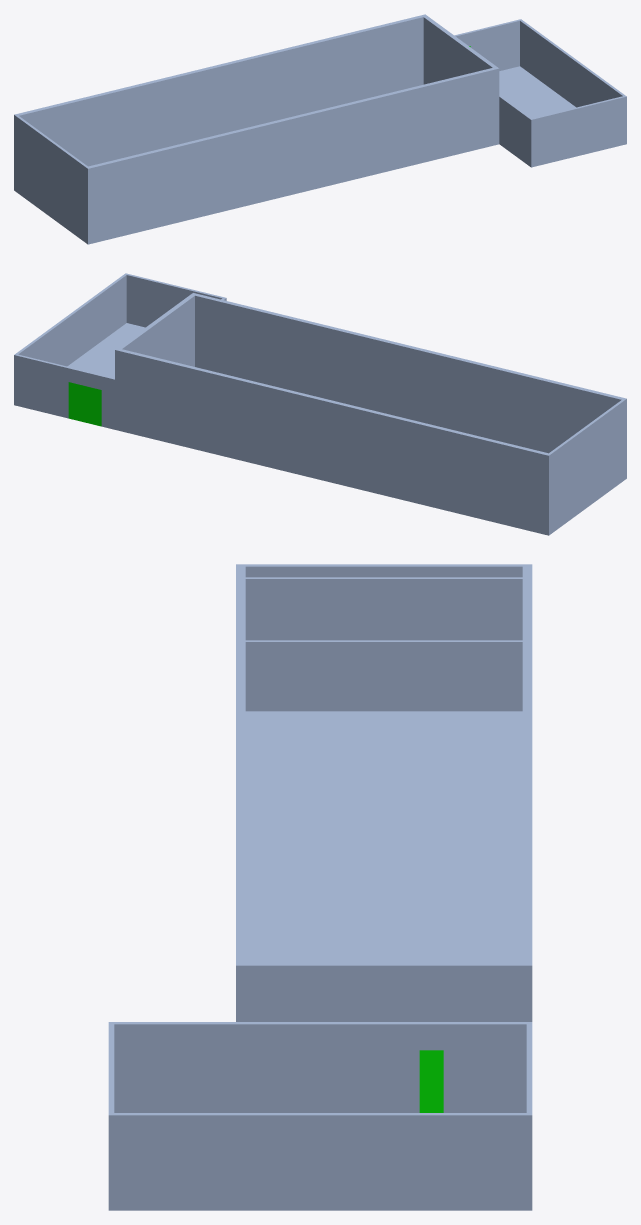
File: Raw_Water_Pump_House_expansion.glb
The picture shows the model from 3 angles, top to bottom: view 1: azimuth 30°, elevation 25°; view 2: azimuth 150°, elevation 25°; view 3: azimuth 270°, elevation 25°; orthographic projection. The views are drawn at different scales.
Parts seen in each view (by area): view 1: Floor1; view 2: Floor1; view 3: Floor1.
Boxes of the visible parts, <box> form: Floor1: <box>14,14,626,244</box>; Floor1: <box>14,273,626,535</box>; Floor1: <box>108,564,532,1210</box>.
Bounding box in the file's own units: 49.03 × 7.8 × 17.73.
